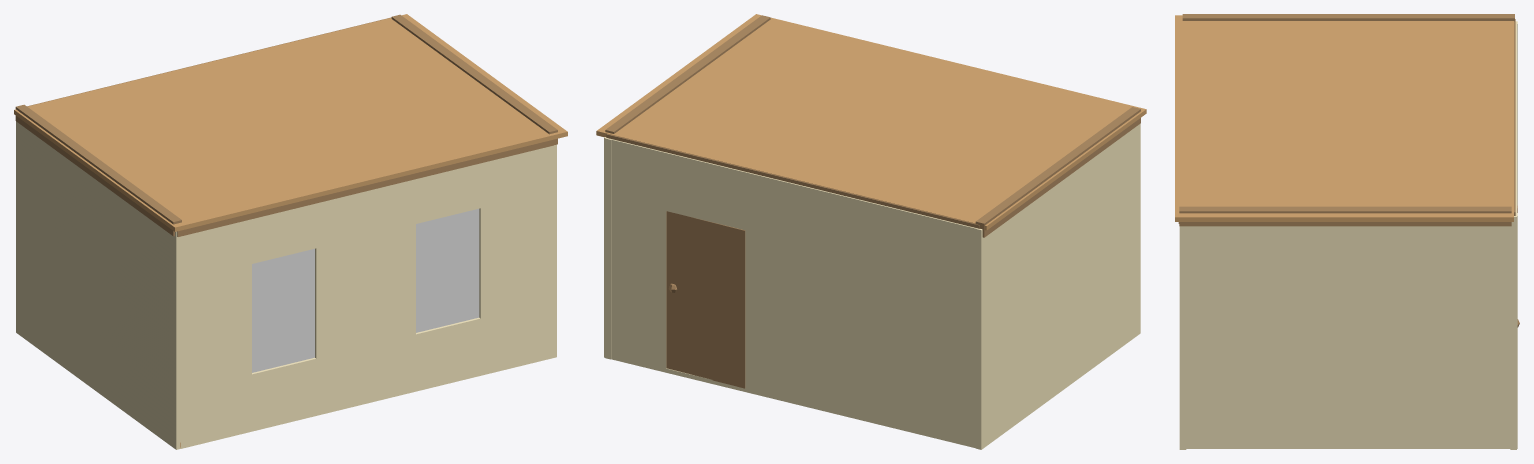
The model's file is habitacion.fbx.
3 renders of one model, left to right at view 1: azimuth 30°, elevation 25°; view 2: azimuth 150°, elevation 25°; view 3: azimuth 270°, elevation 25°, orthographic. The views are drawn at different scales.
Visible parts, largest first — view 1: window1; view 2: window1; view 3: window1.
Part boxes in pixels (bbox=[...]): window1: bbox=[14, 14, 567, 449]; window1: bbox=[596, 14, 1146, 449]; window1: bbox=[1175, 14, 1519, 449].
Size of the model in its own units: 1010 by 558 by 729.
